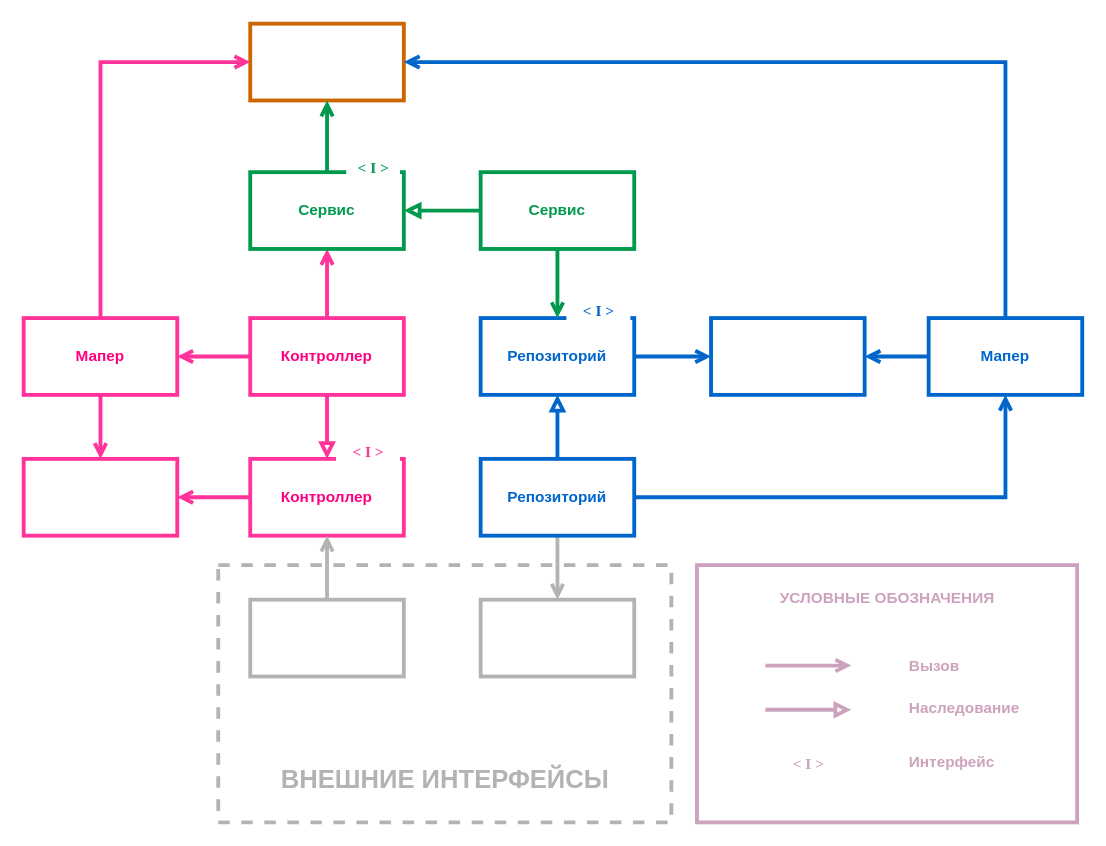
Some shapes in this 1106 by 846 pixel diagram are drawn without their labels. Here are the shapes that lost their labels. From the top down, the centre of each, then its label:
At pixel 326 61: "Сущность".
At pixel 787 356: "Репозитарная сущность".
At pixel 100 496: "DTO".
At pixel 326 637: "Клиент".
At pixel 557 637: "База данных".
